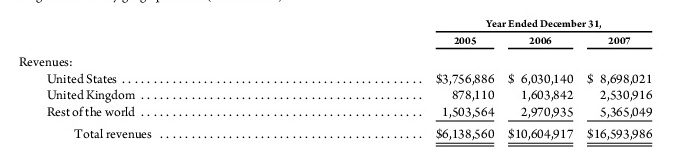table: (0, 0, 674, 161)
